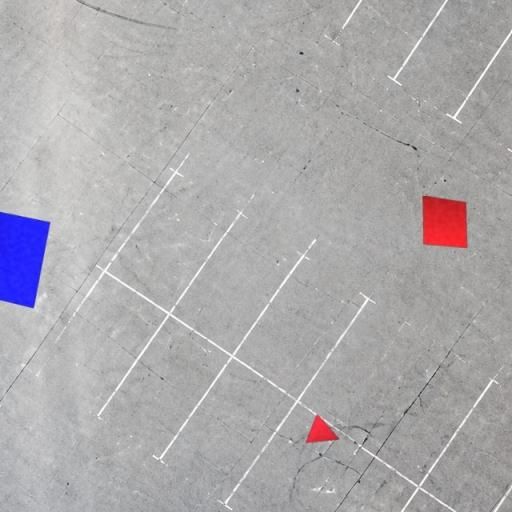BLUE_SQUARE: (0, 203, 51, 309)
RED_SQUARE: (422, 194, 468, 248)
